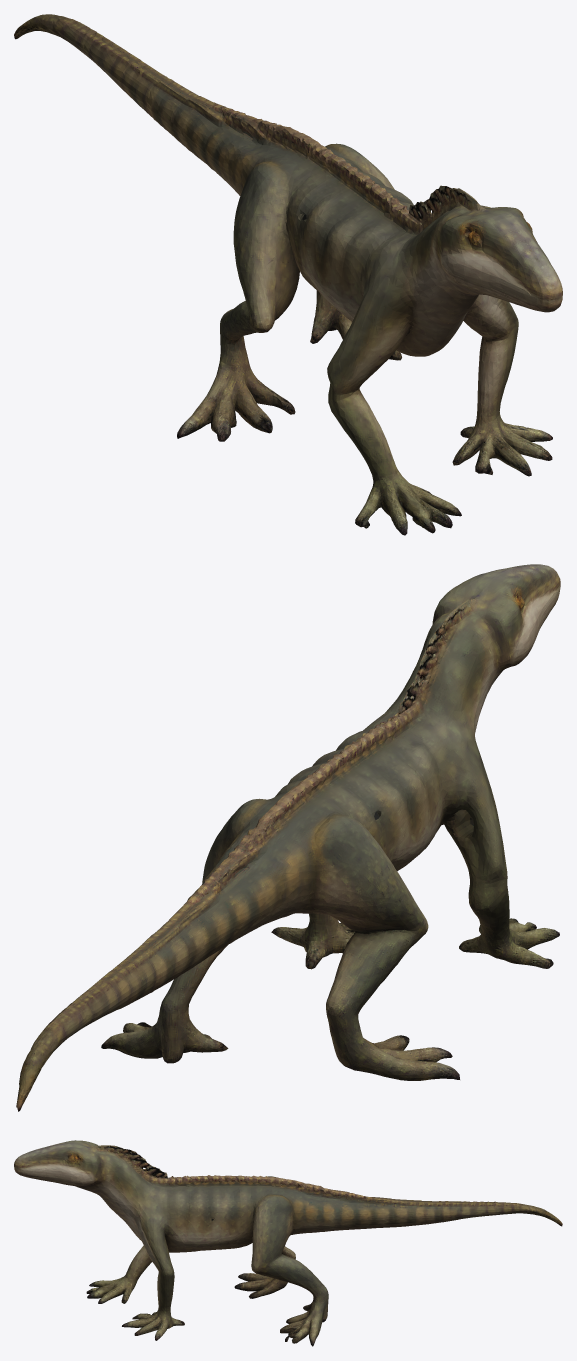
The picture shows the model from 3 angles, top to bottom: view 1: azimuth 30°, elevation 25°; view 2: azimuth 150°, elevation 25°; view 3: azimuth 270°, elevation 25°; orthographic projection. The views are drawn at different scales.
Visible parts, largest first — view 1: world; view 2: world; view 3: world.
Boxes of the visible parts, box(x1,y1,x2,y2) form: world: box(14, 14, 562, 535); world: box(16, 564, 560, 1111); world: box(14, 1140, 562, 1346).
Bounding box in the file's own units: 0.3193 × 0.3338 × 1.
1 material, 1 textured.
